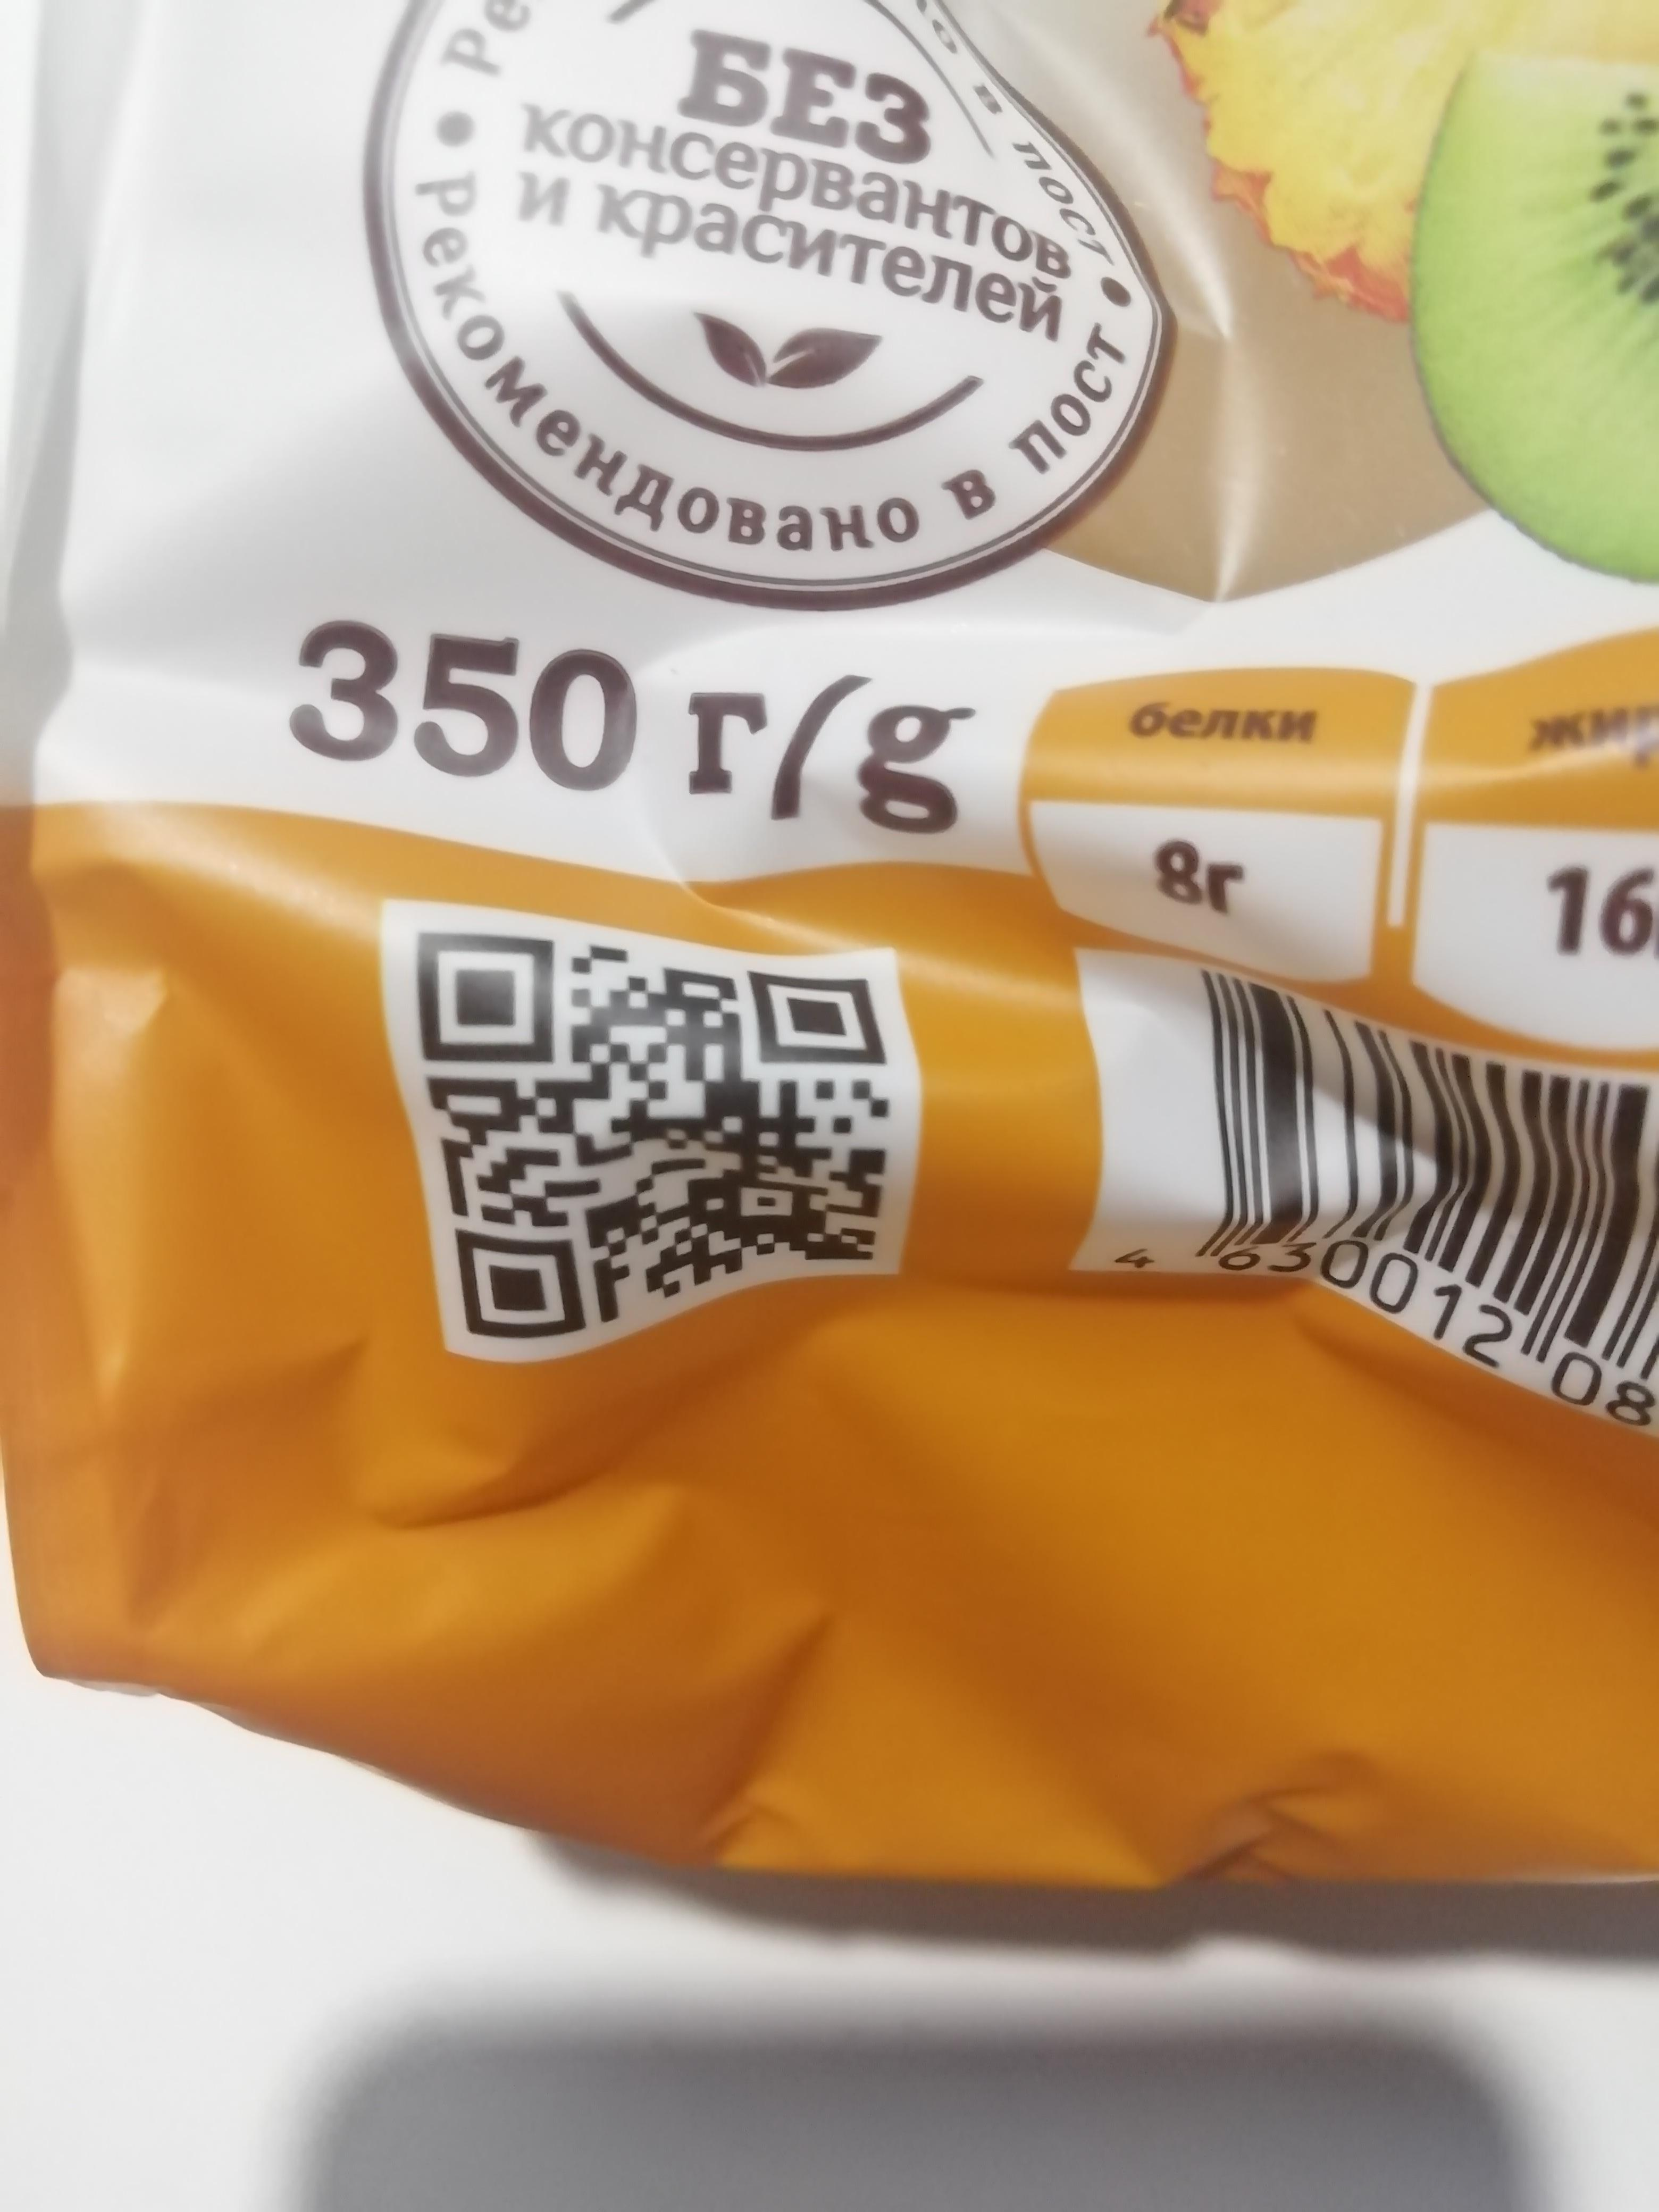qrcode: (413, 923, 894, 1341)
